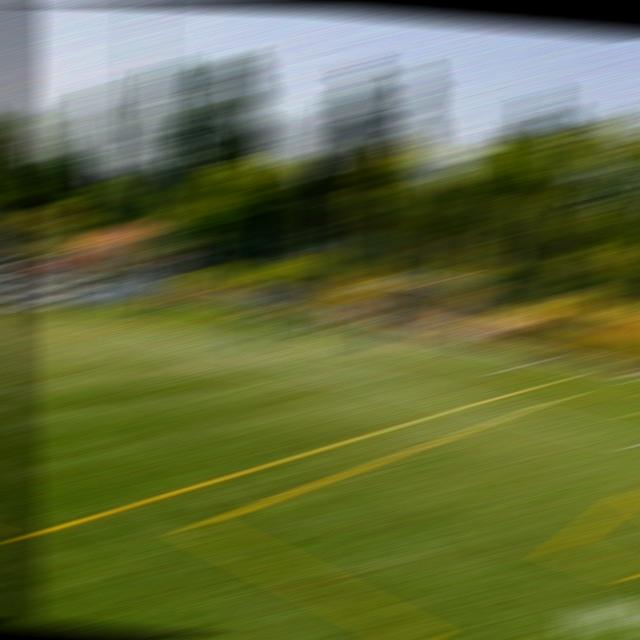bigarea_top_inner: (58, 309, 89, 323)
bigarea_top_outter: (221, 305, 247, 312)
halfcircle_bottom: (356, 372, 394, 390)
halfcircle_top: (169, 332, 201, 349)
smallarea_bottom_inner: (494, 362, 525, 375)
smallarea_bottom_outter: (529, 356, 561, 369)
smallarea_top_inner: (272, 324, 302, 332)
